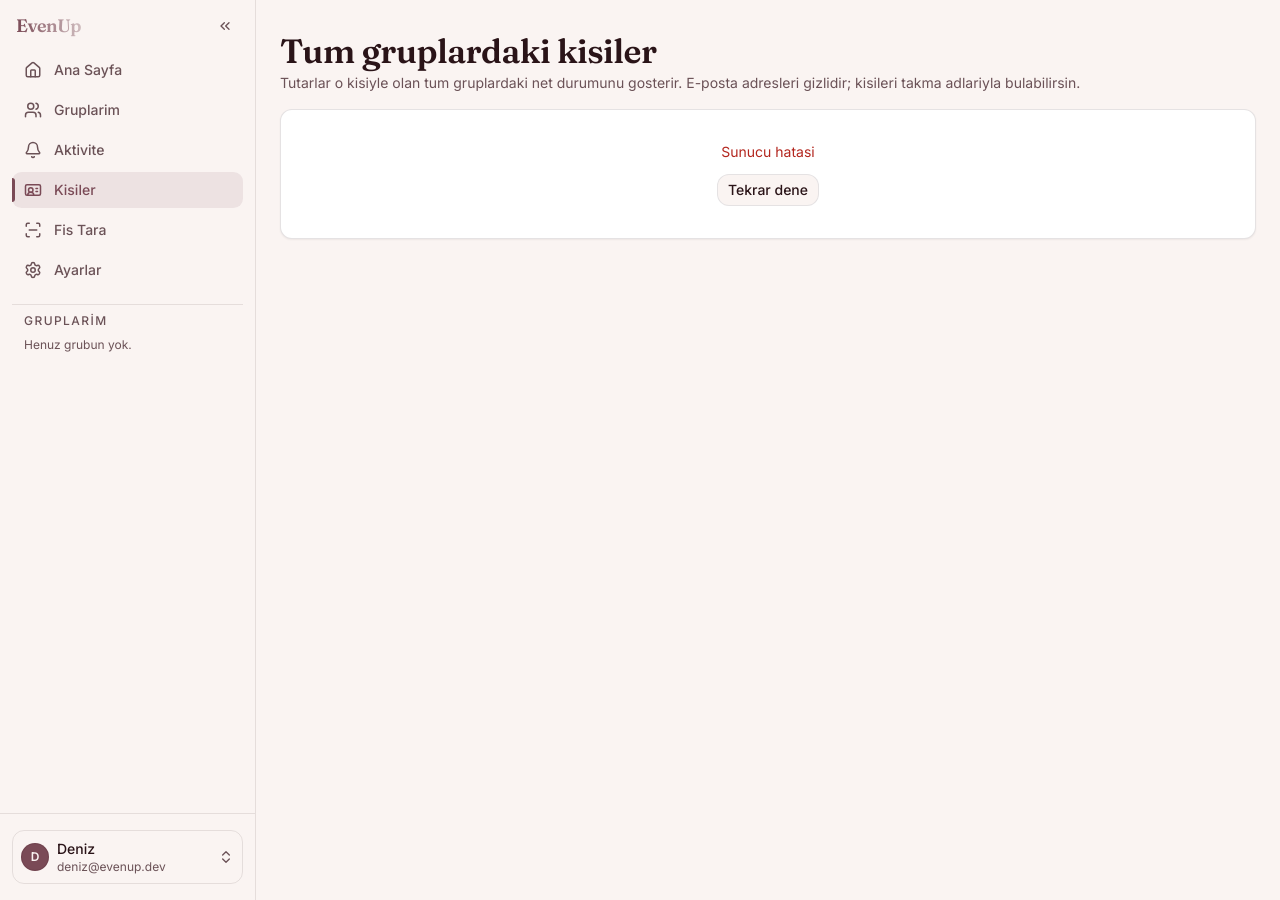
Test: liste durumlari › API hatasinda tekrar dene ile yeniden istek atilir
The image size is (1280, 900).
Expected: the message shows "Sunucu hatasi", 721,143 -> 815,160
Click the button "Tekrar dene": (768, 190) 717,174 -> 819,206
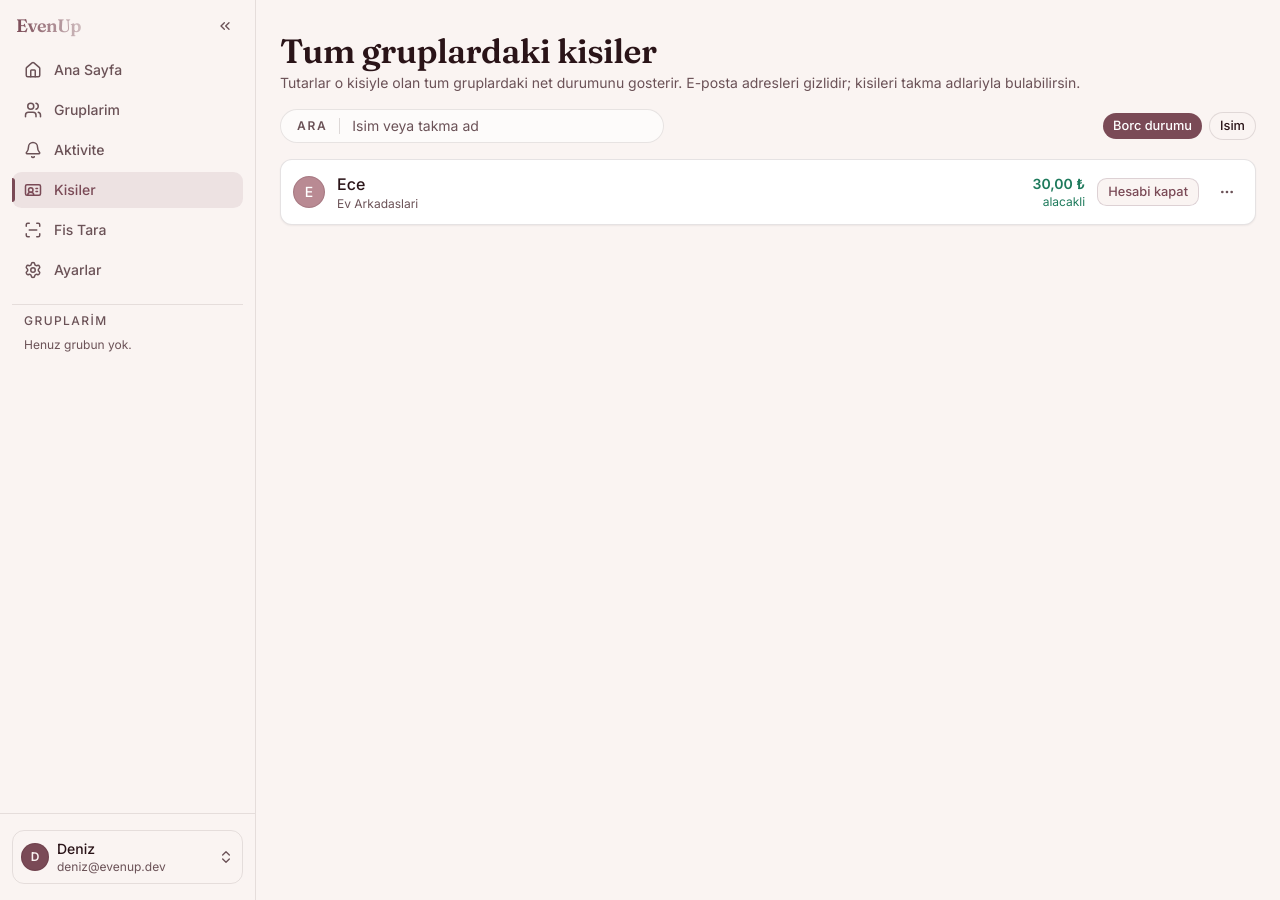
Result: the text "Ece" is shown at 337,172 -> 365,196
